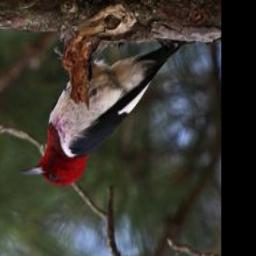Woodpecker: (16, 39, 197, 189)
